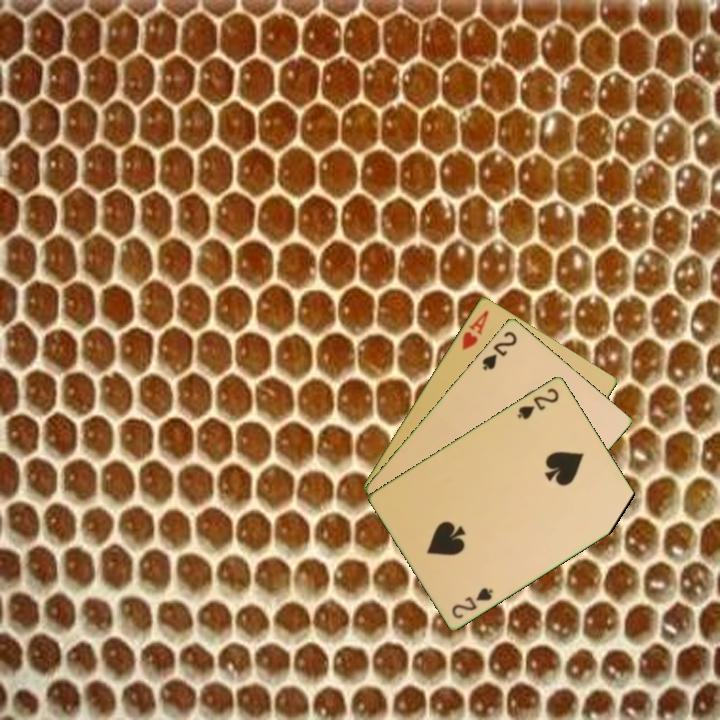2s: (478, 327, 520, 373), (514, 384, 562, 422), (448, 583, 496, 621)
Ah: (458, 306, 492, 353)
